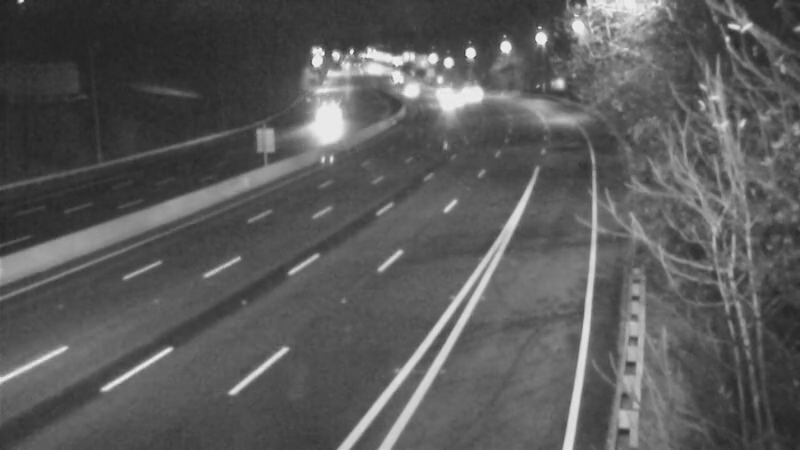vehicle: (372, 52, 422, 102), (381, 61, 431, 111), (416, 68, 466, 118), (446, 68, 496, 118), (423, 80, 473, 130), (308, 91, 358, 141)
